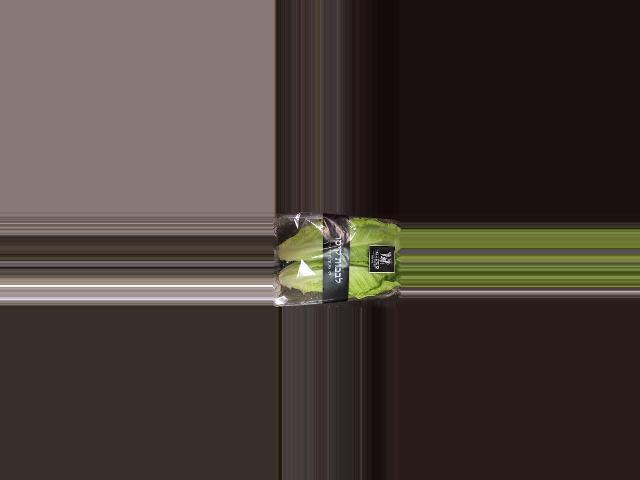lettuce: (272, 219, 399, 306)
